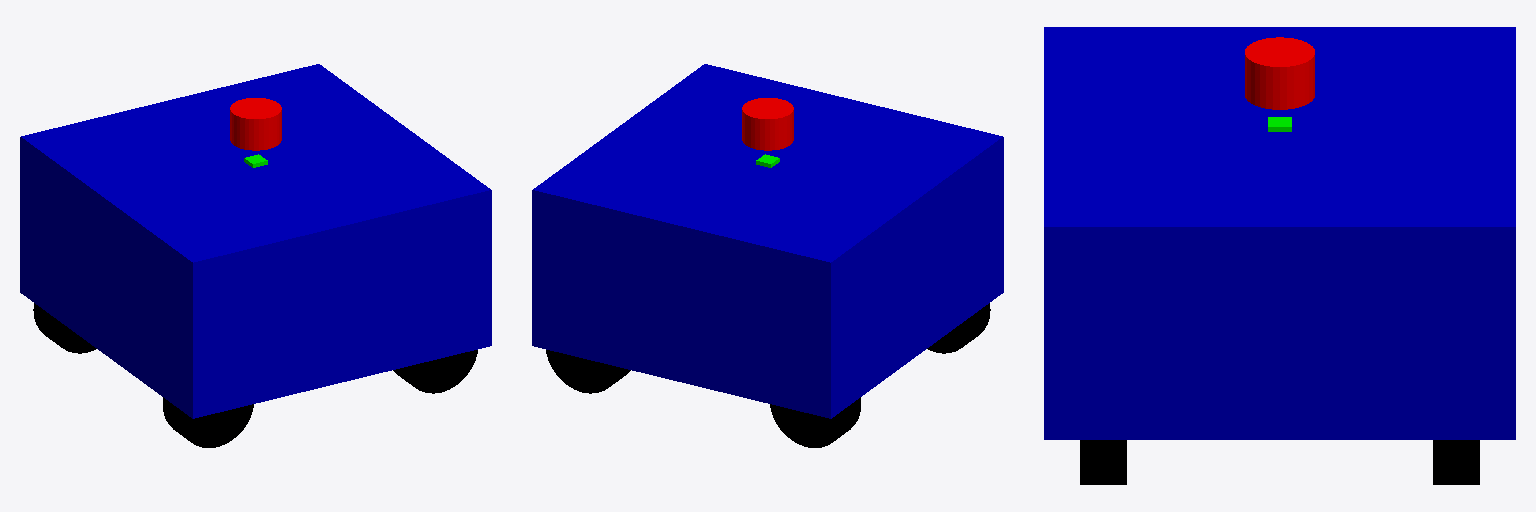
The robot description file, URDF, robot "sentry_robot":
<?xml version="1.0"?>
<robot name="sentry_robot">
  
  <!-- Base Link -->
  <link name="base_link">
    <visual>
      <geometry>
        <box size="0.4 0.4 0.2"/>
      </geometry>
      <material name="blue">
        <color rgba="0 0 0.8 1"/>
      </material>
    </visual>
    <collision>
      <geometry>
        <box size="0.4 0.4 0.2"/>
      </geometry>
    </collision>
    <inertial>
      <mass value="10.0"/>
      <origin xyz="0 0 0" rpy="0 0 0"/>
      <inertia ixx="0.133" ixy="0.0" ixz="0.0" 
               iyy="0.133" iyz="0.0" izz="0.267"/>
    </inertial>
  </link>
  
  <!-- Front Left Wheel -->
  <link name="front_left_wheel">
    <visual>
      <geometry>
        <cylinder radius="0.05" length="0.04"/>
      </geometry>
      <origin xyz="0 0 0" rpy="1.5708 0 0"/>
      <material name="black">
        <color rgba="0 0 0 1"/>
      </material>
    </visual>
    <inertial>
      <mass value="0.5"/>
      <origin xyz="0 0 0" rpy="0 0 0"/>
      <inertia ixx="0.001" ixy="0.0" ixz="0.0"
               iyy="0.001" iyz="0.0" izz="0.001"/>
    </inertial>
  </link>
  
  <joint name="front_left_wheel_joint" type="continuous">
    <parent link="base_link"/>
    <child link="front_left_wheel"/>
    <origin xyz="0.15 0.15 -0.11" rpy="0 0 0"/>
    <dynamics damping="0.1" friction="0.1"/>
    <axis xyz="0 1 0"/>
  </joint>
  
  <!-- Front Right Wheel -->
  <link name="front_right_wheel">
    <visual>
      <geometry>
        <cylinder radius="0.05" length="0.04"/>
      </geometry>
      <origin xyz="0 0 0" rpy="1.5708 0 0"/>
      <material name="black"/>
    </visual>
    <inertial>
      <mass value="0.5"/>
      <origin xyz="0 0 0" rpy="0 0 0"/>
      <inertia ixx="0.001" ixy="0.0" ixz="0.0"
               iyy="0.001" iyz="0.0" izz="0.001"/>
    </inertial>
  </link>
  
  <joint name="front_right_wheel_joint" type="continuous">
    <parent link="base_link"/>
    <child link="front_right_wheel"/>
    <origin xyz="0.15 -0.15 -0.11" rpy="0 0 0"/>
    <dynamics damping="0.1" friction="0.1"/>
    <axis xyz="0 1 0"/>
  </joint>
  
  <!-- Back Left Wheel -->
  <link name="back_left_wheel">
    <visual>
      <geometry>
        <cylinder radius="0.05" length="0.04"/>
      </geometry>
      <origin xyz="0 0 0" rpy="1.5708 0 0"/>
      <material name="black"/>
    </visual>
    <inertial>
      <mass value="0.5"/>
      <origin xyz="0 0 0" rpy="0 0 0"/>
      <inertia ixx="0.001" ixy="0.0" ixz="0.0"
               iyy="0.001" iyz="0.0" izz="0.001"/>
    </inertial>
  </link>
  
  <joint name="back_left_wheel_joint" type="continuous">
    <parent link="base_link"/>
    <child link="back_left_wheel"/>
    <origin xyz="-0.15 0.15 -0.11" rpy="0 0 0"/>
    <dynamics damping="0.1" friction="0.1"/>
    <axis xyz="0 1 0"/>
  </joint>
  
  <!-- Back Right Wheel -->
  <link name="back_right_wheel">
    <visual>
      <geometry>
        <cylinder radius="0.05" length="0.04"/>
      </geometry>
      <origin xyz="0 0 0" rpy="1.5708 0 0"/>
      <material name="black"/>
    </visual>
    <inertial>
      <mass value="0.5"/>
      <origin xyz="0 0 0" rpy="0 0 0"/>
      <inertia ixx="0.001" ixy="0.0" ixz="0.0"
               iyy="0.001" iyz="0.0" izz="0.001"/>
    </inertial>
  </link>
  
  <joint name="back_right_wheel_joint" type="continuous">
    <parent link="base_link"/>
    <child link="back_right_wheel"/>
    <origin xyz="-0.15 -0.15 -0.11" rpy="0 0 0"/>
    <dynamics damping="0.1" friction="0.1"/>
    <axis xyz="0 1 0"/>
  </joint>
  
  <!-- LiDAR -->
  <link name="laser_frame">
    <visual>
      <geometry>
        <cylinder radius="0.03" length="0.04"/>
      </geometry>
      <material name="red">
        <color rgba="1 0 0 1"/>
      </material>
    </visual>
    <collision>
      <geometry>
        <cylinder radius="0.03" length="0.04"/>
      </geometry>
    </collision>
    <inertial>
      <mass value="0.1"/>
      <origin xyz="0 0 0" rpy="0 0 0"/>
      <inertia ixx="0.0001" ixy="0.0" ixz="0.0" 
               iyy="0.0001" iyz="0.0" izz="0.0001"/>
    </inertial>
  </link>
  
  <joint name="laser_joint" type="fixed">
    <parent link="base_link"/>
    <child link="laser_frame"/>
    <origin xyz="0 0 0.15" rpy="0 0 0"/>
  </joint>
  
  <!-- IMU -->
  <link name="imu_link">
    <visual>
      <geometry>
        <box size="0.02 0.02 0.01"/>
      </geometry>
      <material name="green">
        <color rgba="0 1 0 1"/>
      </material>
    </visual>
    <inertial>
      <mass value="0.01"/>
      <origin xyz="0 0 0" rpy="0 0 0"/>
      <inertia ixx="0.00001" ixy="0.0" ixz="0.0" 
               iyy="0.00001" iyz="0.0" izz="0.00001"/>
    </inertial>
  </link>
  
  <joint name="imu_joint" type="fixed">
    <parent link="base_link"/>
    <child link="imu_link"/>
    <origin xyz="0 0 0.1" rpy="0 0 0"/>
  </joint>
  

    <!-- Gazebo-specific properties for base_link -->
    <gazebo reference="base_link">
    <mu1>0.2</mu1>
    <mu2>0.2</mu2>
    <kp>1000000.0</kp>
    <kd>100.0</kd>
    <minDepth>0.001</minDepth>
    <maxVel>1.0</maxVel>
    </gazebo>

    <!-- Gazebo-specific properties for wheels (visual only, no collision) -->
    <gazebo reference="front_left_wheel">
        <material>Gazebo/Black</material>
    </gazebo>

    <gazebo reference="front_right_wheel">
        <material>Gazebo/Black</material>
    </gazebo>

    <gazebo reference="back_left_wheel">
        <material>Gazebo/Black</material>
    </gazebo>

    <gazebo reference="back_right_wheel">
        <material>Gazebo/Black</material>
    </gazebo>

<!-- Gazebo Planar Move Plugin (for omnidirectional motion) -->
  <gazebo>
    <plugin name="planar_move" filename="libgazebo_ros_planar_move.so">
      <update_rate>50</update_rate>
      <publish_rate>50</publish_rate>
      <publish_odom>true</publish_odom>
      <publish_odom_tf>true</publish_odom_tf>
      <odometry_frame>odom</odometry_frame>
      <robot_base_frame>base_link</robot_base_frame>
      <cmd_vel_topic>cmd_vel</cmd_vel_topic>
      <odometry_topic>odom</odometry_topic>
      <covariance_x>0.001</covariance_x>
      <covariance_y>0.001</covariance_y>
      <covariance_yaw>0.05</covariance_yaw>
    </plugin>
  </gazebo>
  
  <!-- Joint State Publisher Plugin (publishes wheel joint states) -->
  <gazebo>
    <plugin name="gazebo_ros_joint_state_publisher" filename="libgazebo_ros_joint_state_publisher.so">
      <update_rate>50</update_rate>
      <joint_name>front_left_wheel_joint</joint_name>
      <joint_name>front_right_wheel_joint</joint_name>
      <joint_name>back_left_wheel_joint</joint_name>
      <joint_name>back_right_wheel_joint</joint_name>
    </plugin>
  </gazebo>

  <!-- LiDAR Plugin -->
  <gazebo reference="laser_frame">
    <sensor name="laser" type="ray">
      <pose>0 0 0 0 0 0</pose>
      <visualize>true</visualize>
      <update_rate>10</update_rate>
      <ray>
        <scan>
          <horizontal>
            <samples>360</samples>
            <resolution>1</resolution>
            <min_angle>-3.14159</min_angle>
            <max_angle>3.14159</max_angle>
          </horizontal>
        </scan>
        <range>
          <min>0.1</min>
          <max>10.0</max>
          <resolution>0.01</resolution>
        </range>
      </ray>
      <plugin name="laser_controller" filename="libgazebo_ros_ray_sensor.so">
        <ros>
          <remapping>~/out:=scan</remapping>
        </ros>
        <output_type>sensor_msgs/LaserScan</output_type>
        <frame_name>laser_frame</frame_name>
      </plugin>
    </sensor>
  </gazebo>
  
  <!-- IMU Plugin -->
  <gazebo reference="imu_link">
    <gravity>true</gravity>
    <sensor name="imu_sensor" type="imu">
      <always_on>true</always_on>
      <update_rate>50</update_rate>
      <plugin filename="libgazebo_ros_imu_sensor.so" name="imu_plugin">
        <ros>
          <remapping>~/out:=imu</remapping>
        </ros>
        <initial_orientation_as_reference>false</initial_orientation_as_reference>
      </plugin>
    </sensor>
  </gazebo>
  
</robot>

--- Facts derived from the render (not from the file) ---
3 views of the same robot in one strip: view 1: azimuth 30°, elevation 25°; view 2: azimuth 150°, elevation 25°; view 3: azimuth 270°, elevation 25° (orthographic).
Robot: sentry_robot — 7 links, 6 joints (4 continuous, 2 fixed); root link base_link; default pose: all joints at 0.
Visible links, largest first — view 1: base_link, laser_frame, back_right_wheel, front_right_wheel, back_left_wheel; view 2: base_link, laser_frame, back_left_wheel, front_left_wheel, back_right_wheel; view 3: base_link, laser_frame, front_left_wheel, front_right_wheel.
Boxes of the visible links, <box> form: base_link: <box>20,64,491,418</box>; laser_frame: <box>230,98,281,150</box>; back_right_wheel: <box>163,397,253,447</box>; front_right_wheel: <box>393,350,477,393</box>; back_left_wheel: <box>33,303,96,353</box>; base_link: <box>532,64,1003,418</box>; laser_frame: <box>742,98,793,150</box>; back_left_wheel: <box>770,397,860,447</box>; front_left_wheel: <box>546,350,630,393</box>; back_right_wheel: <box>927,303,990,353</box>; base_link: <box>1044,27,1515,439</box>; laser_frame: <box>1245,37,1314,109</box>; front_left_wheel: <box>1433,440,1479,484</box>; front_right_wheel: <box>1080,440,1126,484</box>.
Bounding box of the posed robot: 0.4 × 0.4 × 0.33 m (x, y, z).
Geometry: primitives only (box / cylinder / sphere), no mesh files.
